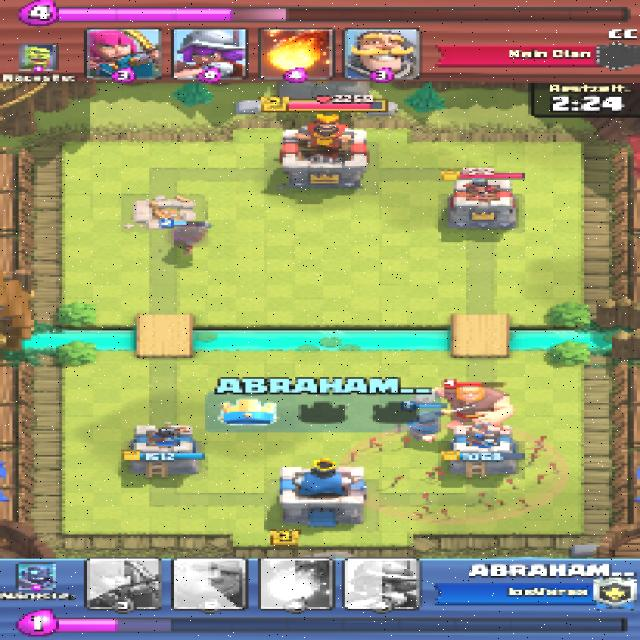Enemy-Arrow: (346, 424, 568, 523)
Enemy-Giant: (418, 382, 517, 428)
Player-Knight: (409, 407, 444, 442)
Player-Musketeer: (170, 221, 212, 252)
